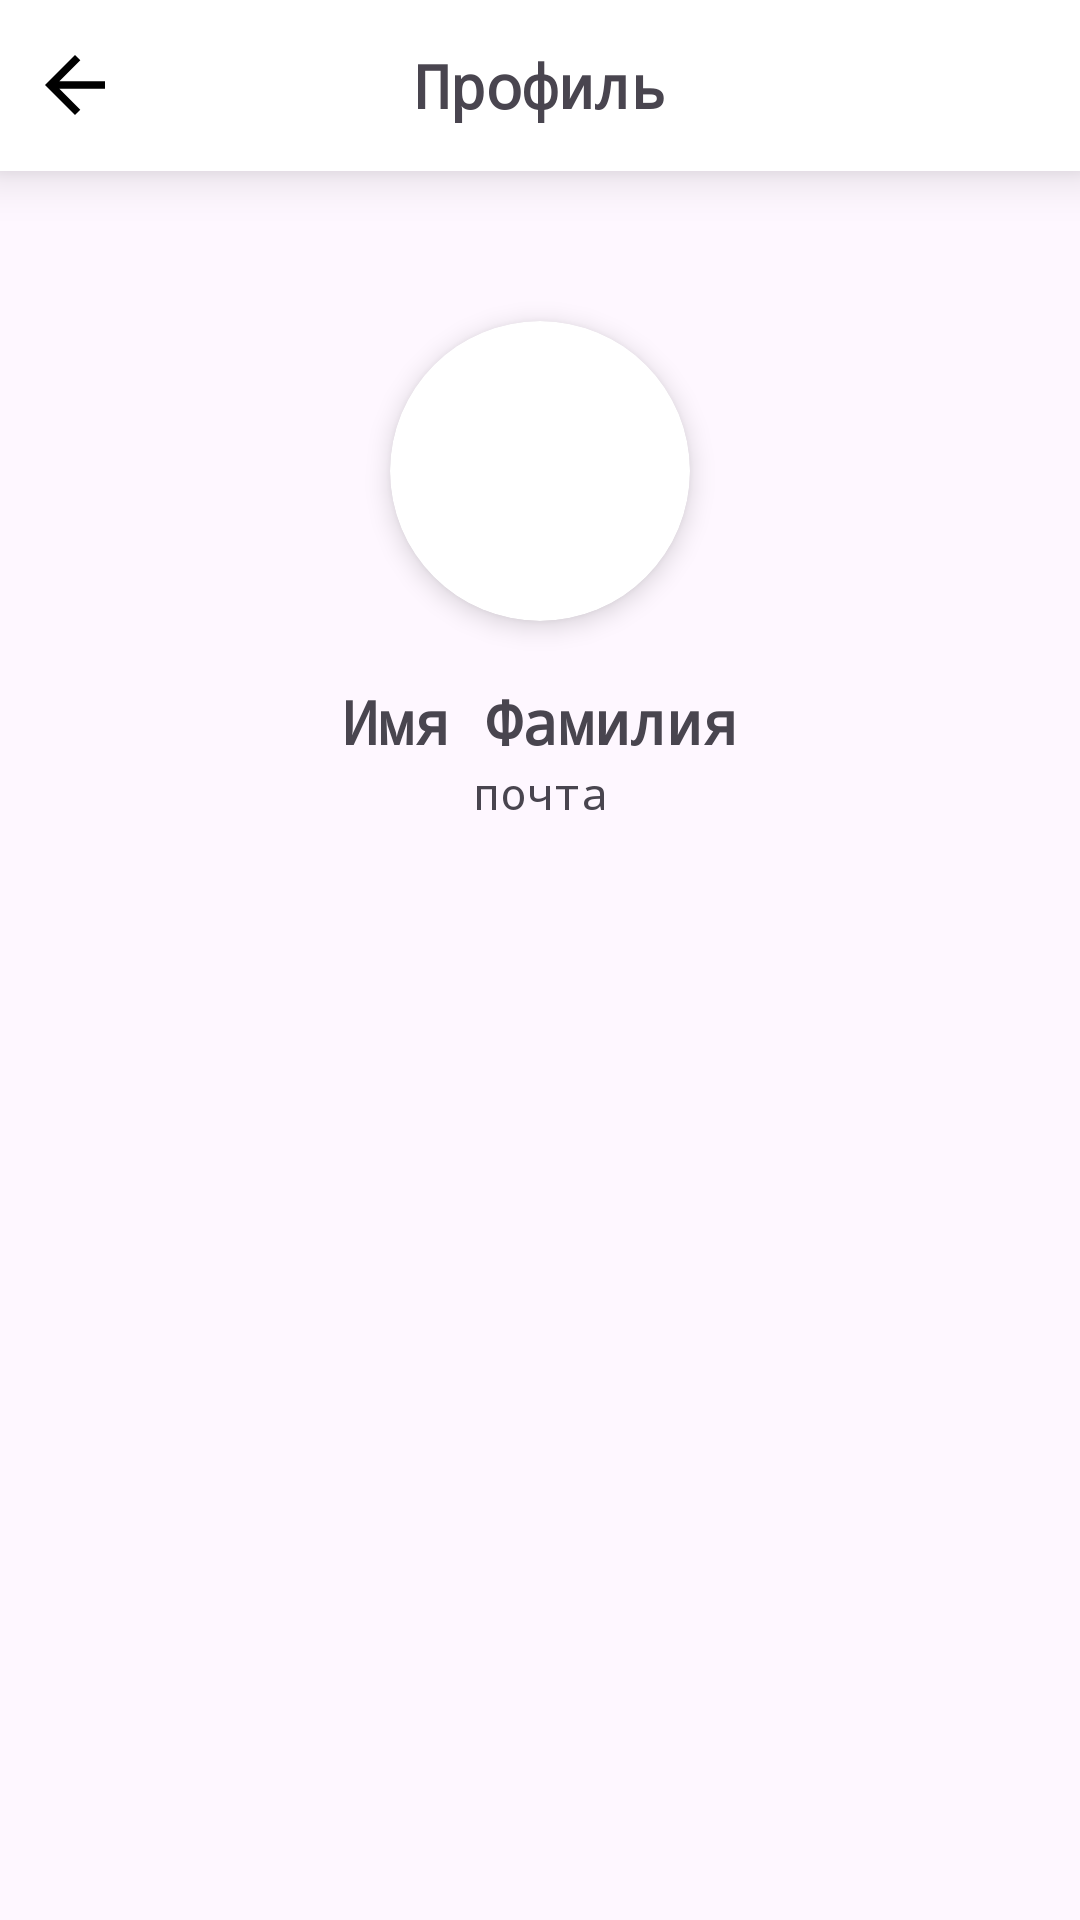

Icons on this 1080 x 1920 Android screen, each with its box as (x1, y1, x2, y2):
arrow back: (45, 55, 105, 115)
